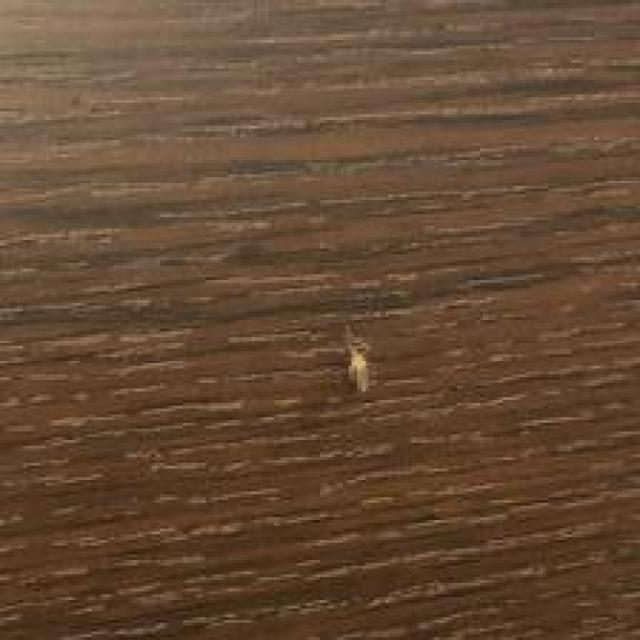Culex: (344, 338, 373, 393)
